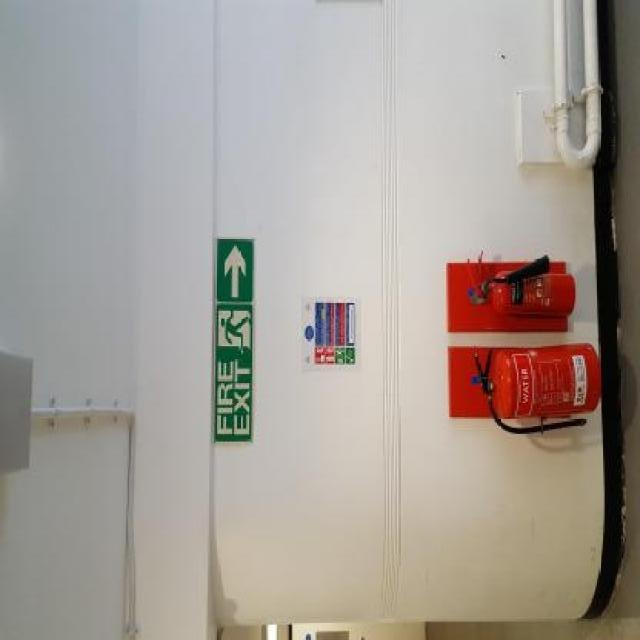fire extinguisher: (472, 343, 600, 435), (470, 249, 578, 325)
